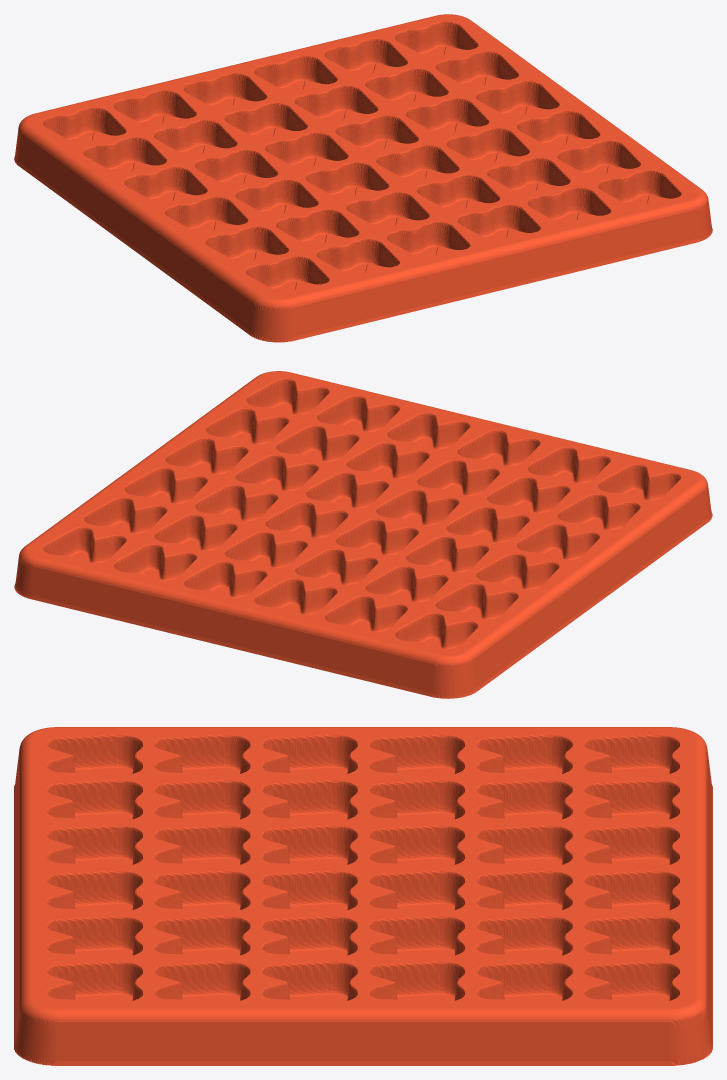
The model's file is mold.glb.
3 renders of one model, top to bottom at view 1: azimuth 30°, elevation 25°; view 2: azimuth 150°, elevation 25°; view 3: azimuth 270°, elevation 25°, orthographic. The views are drawn at different scales.
Visible parts, largest first — view 1: geometry_0; view 2: geometry_0; view 3: geometry_0.
Part boxes in pixels (left/top/right/bottom): geometry_0: left=14, top=14, right=712, bottom=342; geometry_0: left=14, top=371, right=712, bottom=698; geometry_0: left=14, top=727, right=712, bottom=1065.
Bounding box in the file's own units: 0.1447 × 0.0114 × 0.1447.
